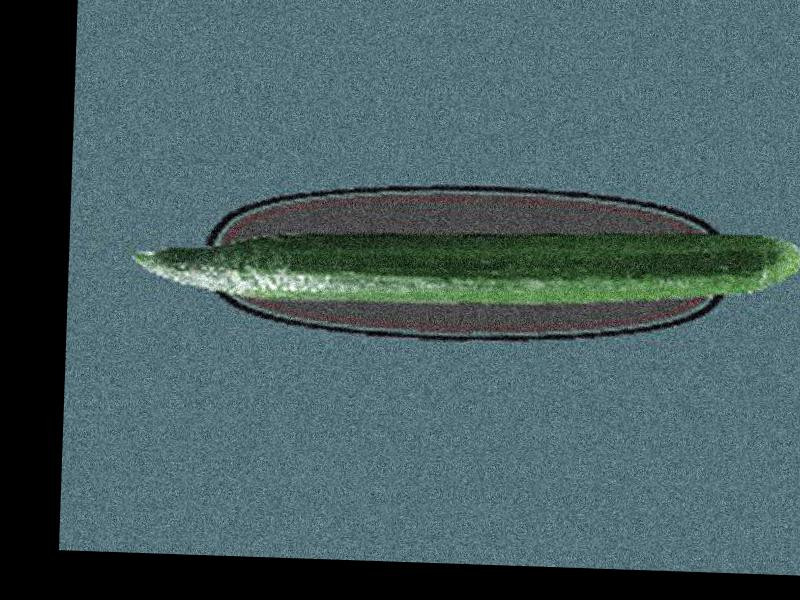Cucumber: (130, 210, 800, 315)
